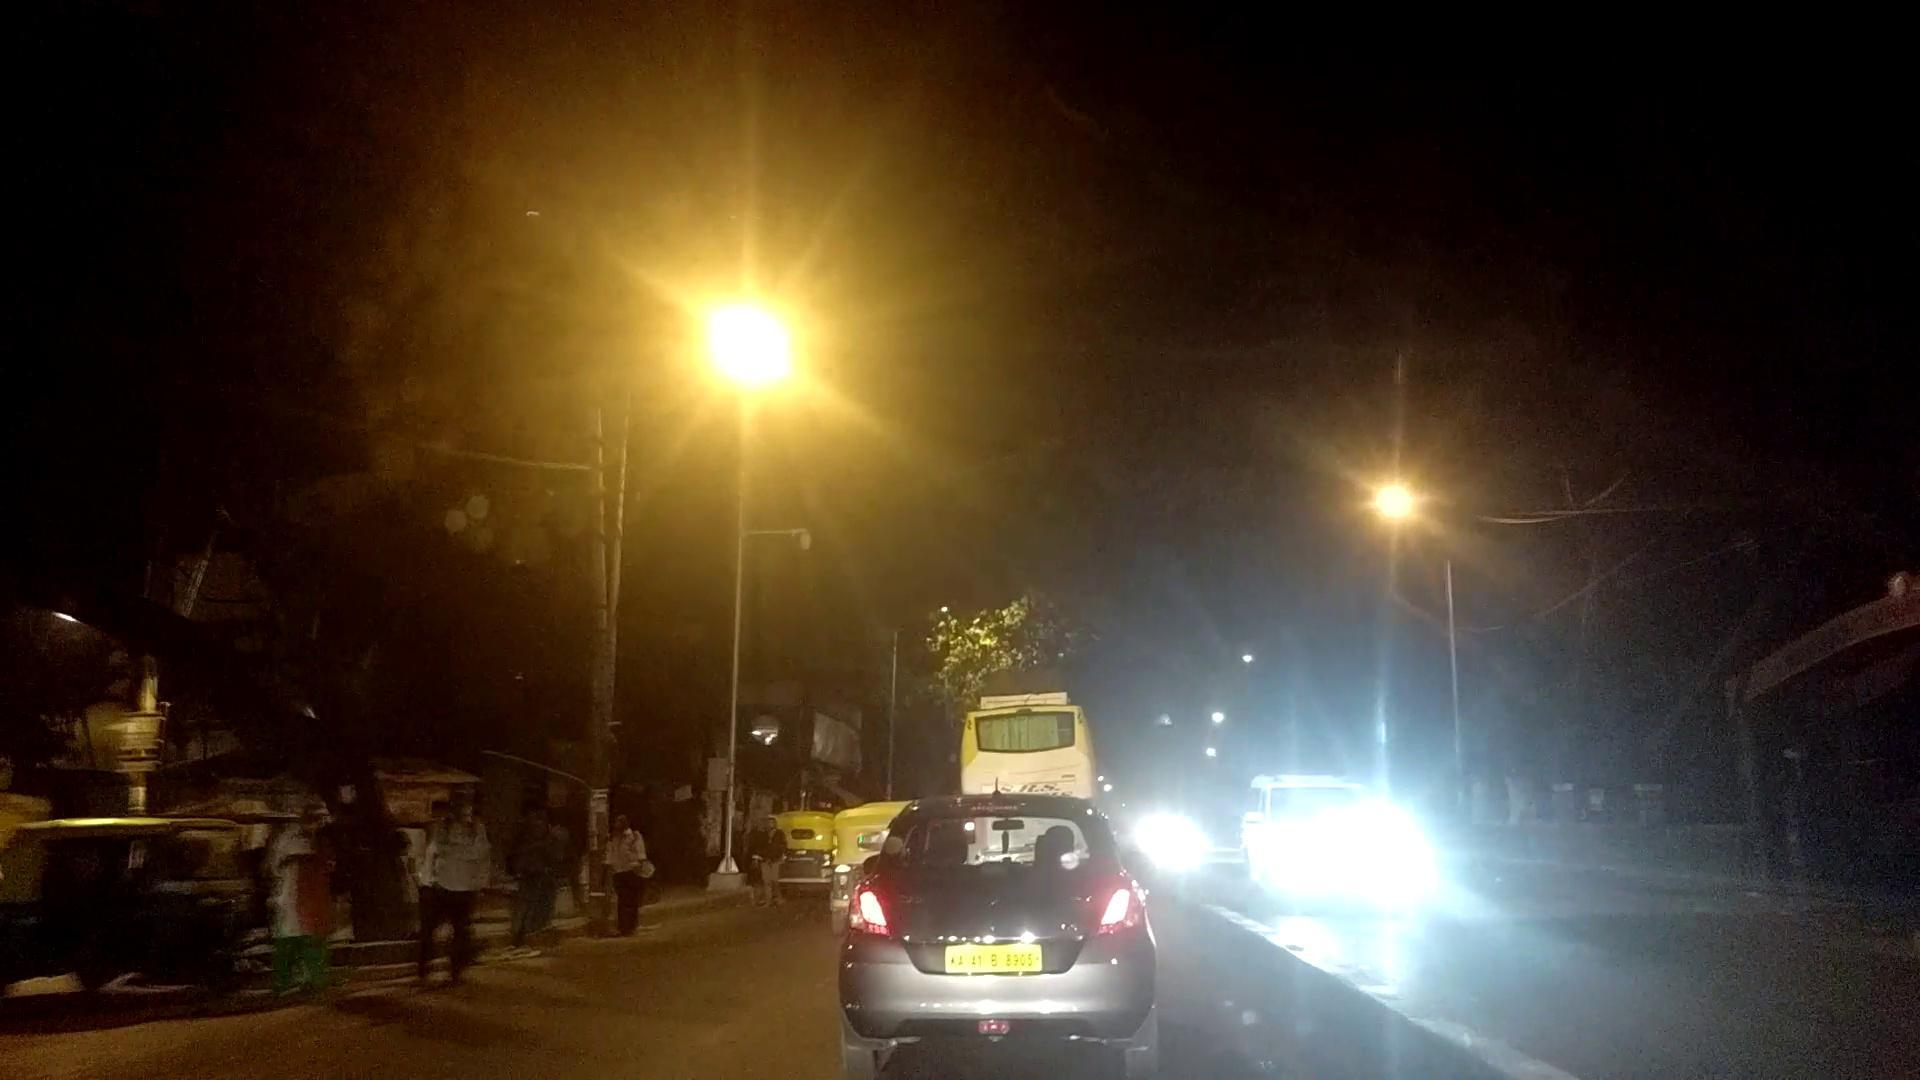on: (600, 112, 823, 563), (1200, 363, 1503, 626)
